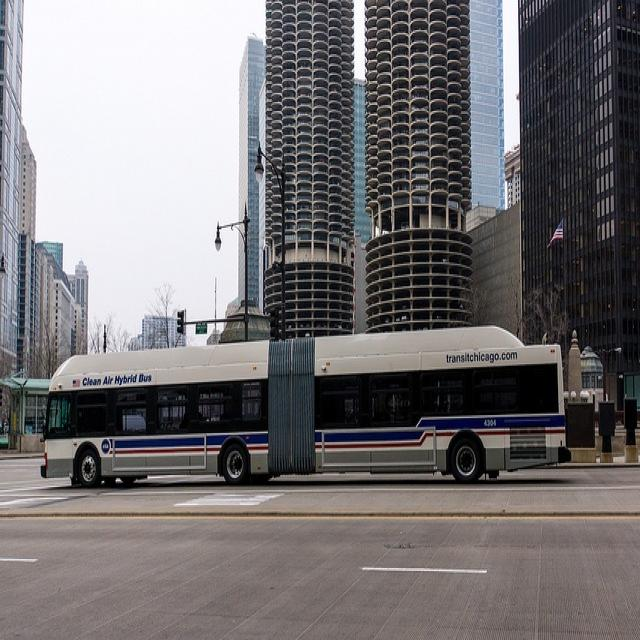bus: (40, 321, 568, 493)
